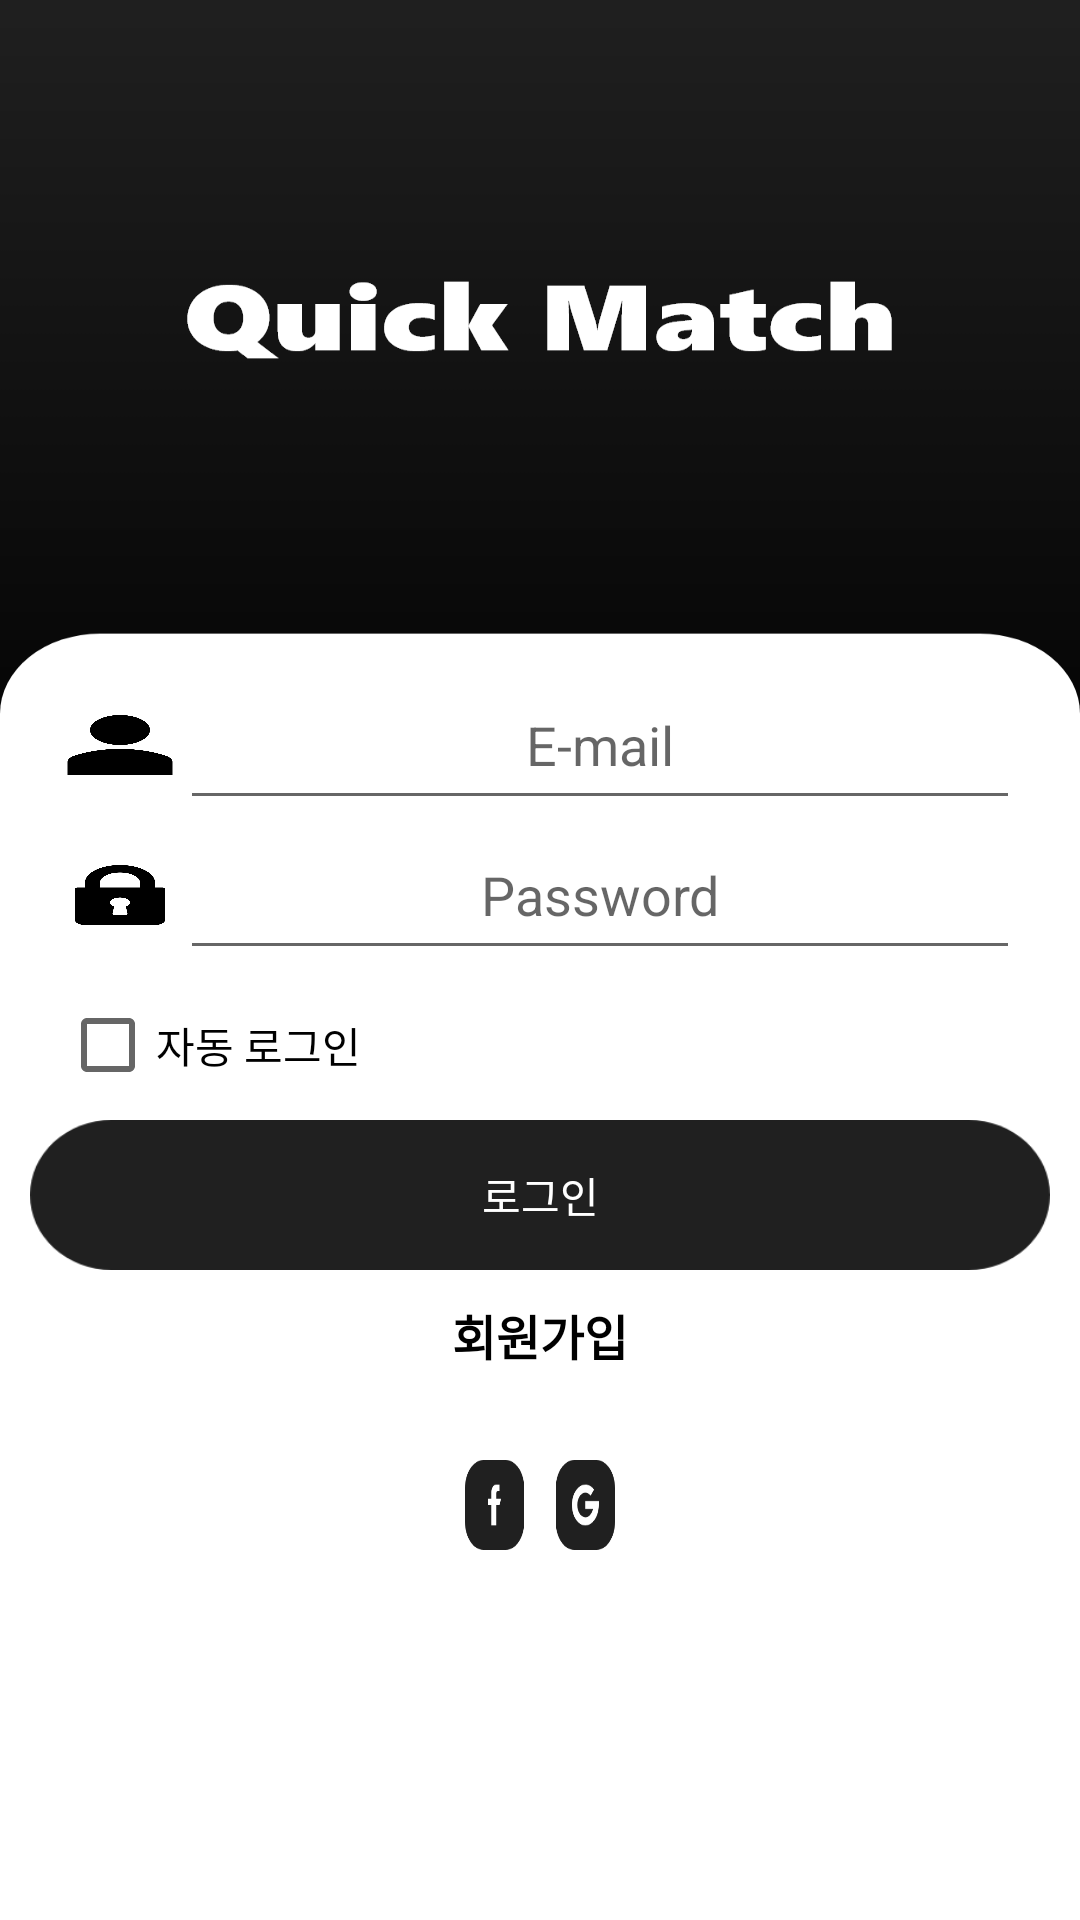

Icons on this 1080px x 1920px Android screen, each with its box as [x1=x1, y1=y1, x2=x2, y2=y2]:
login: [x1=67, y1=715, x2=173, y2=775]
